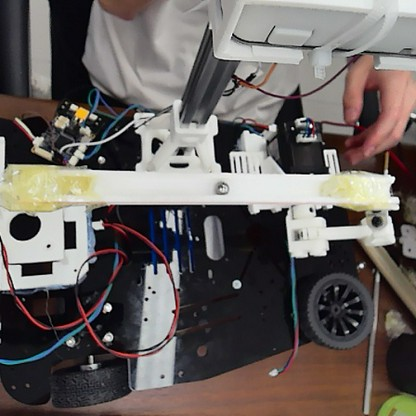ironball: (213, 177, 229, 195)
